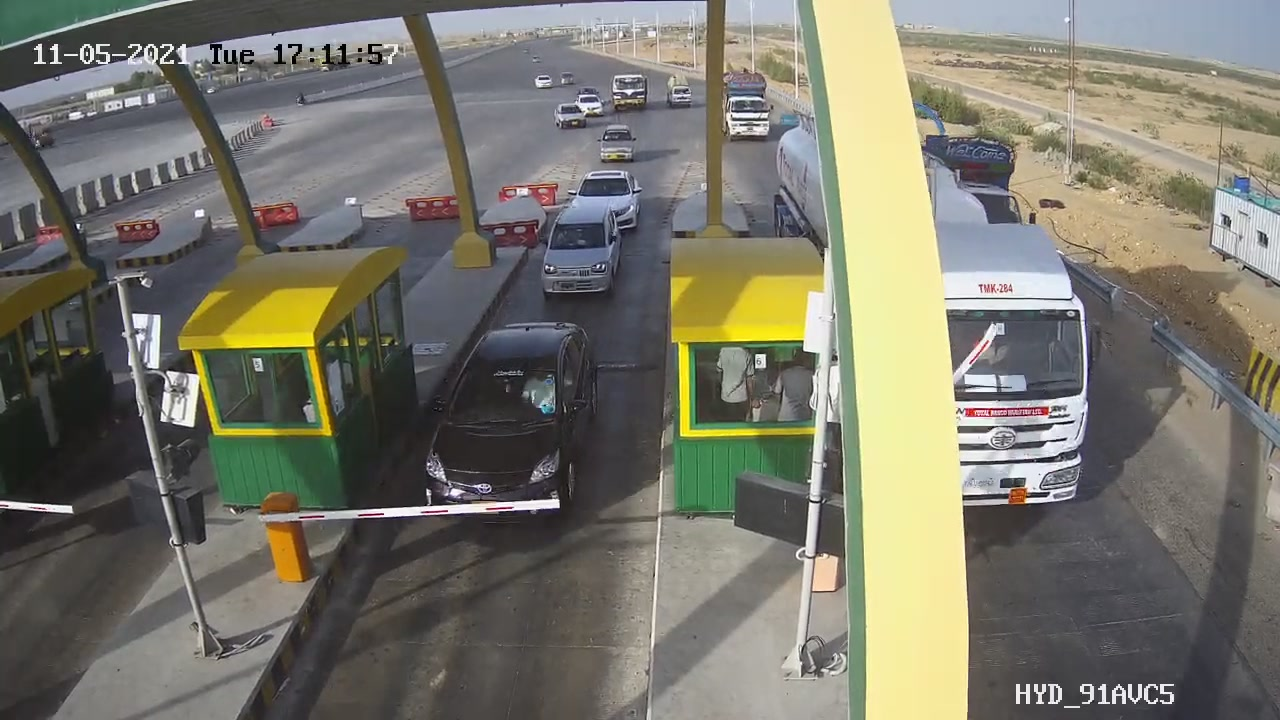F1: (395, 308, 612, 540), (521, 198, 638, 308)
